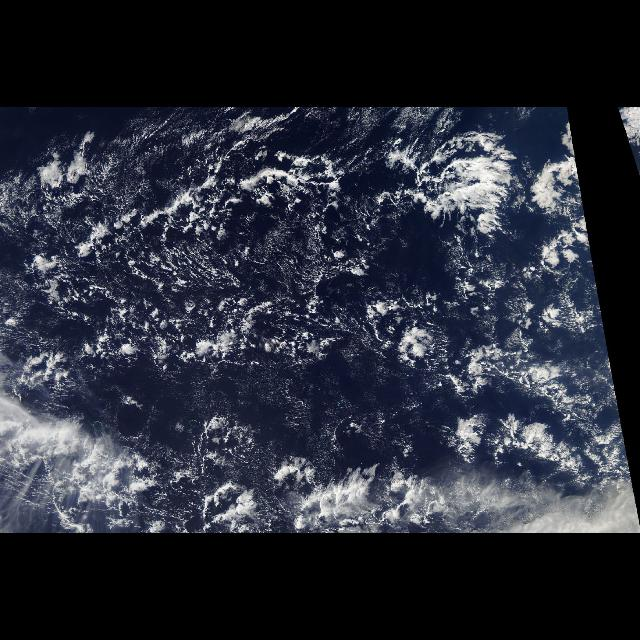Fish: (51, 124, 639, 532), (622, 124, 640, 178)
Gravel: (63, 189, 453, 381)
Sugar: (108, 366, 490, 470)
